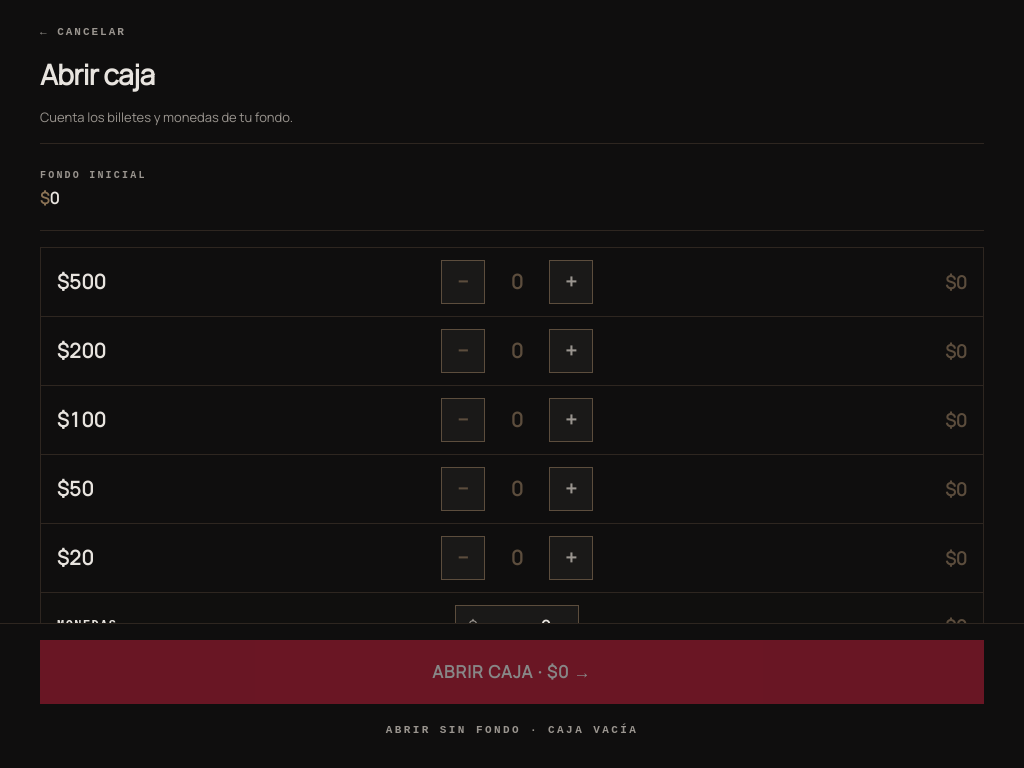
OpenCajaPage › tapping + on $500 row enables CTA and shows the amount
The width and height of the screenshot is (1024, 768).
Step 1. Click the button named "aumentar" → (571, 282), box [549,260,593,304]
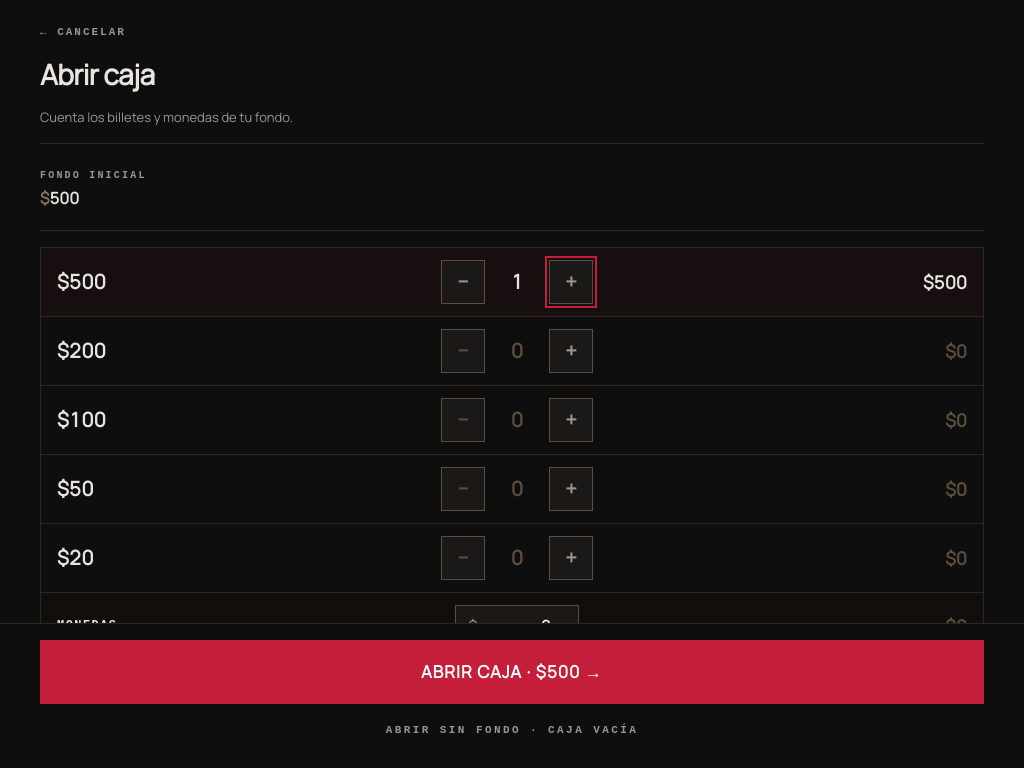
Result: the button "Abrir caja · $500 →" is shown at [40,640,984,704]
